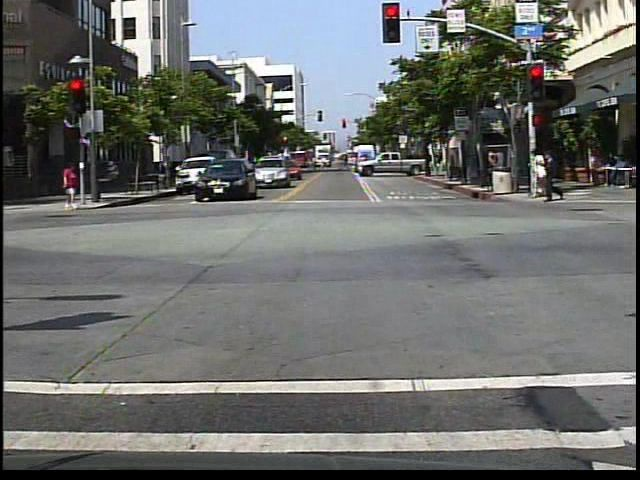person: (539, 148, 566, 206), (528, 146, 547, 201), (61, 161, 81, 213)
